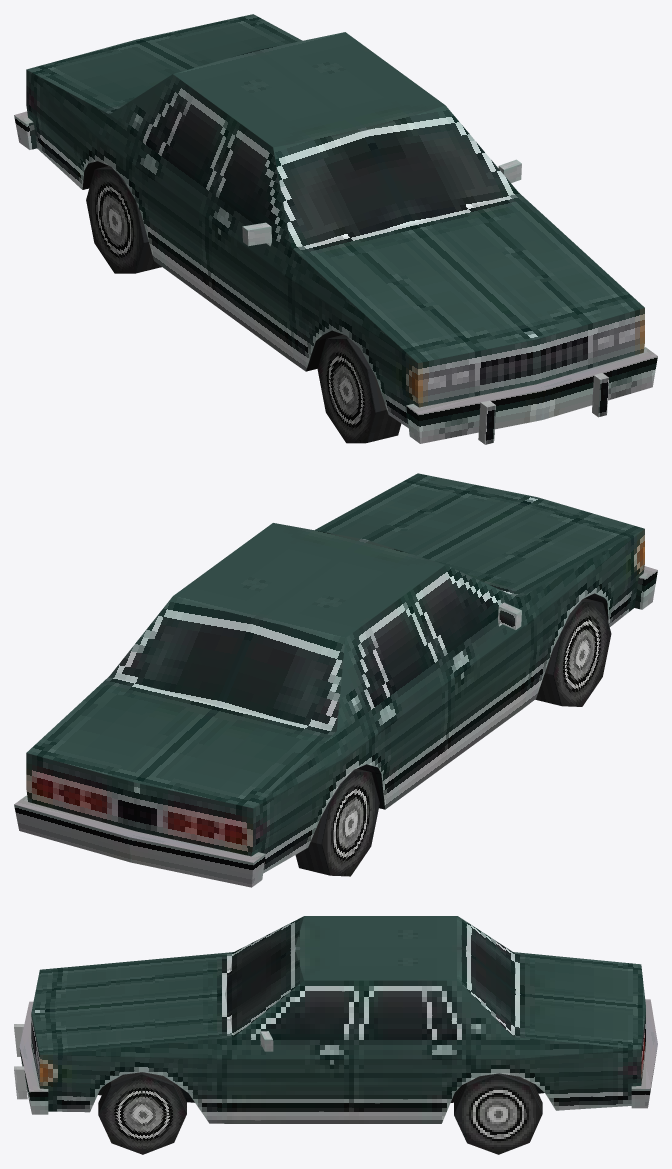
The model's file is car5-green.lod.glb.
3 renders of one model, top to bottom at view 1: azimuth 30°, elevation 25°; view 2: azimuth 150°, elevation 25°; view 3: azimuth 270°, elevation 25°, orthographic. The views are drawn at different scales.
Visible parts, largest first — view 1: Car5; view 2: Car5; view 3: Car5.
Part boxes in pixels (box(x1,y1,x2,y2)): Car5: box(14, 14, 657, 444); Car5: box(14, 473, 657, 887); Car5: box(14, 916, 657, 1154).
Size of the model in its own units: 2.78 by 2.05 by 7.37.
1 material, 1 textured.
